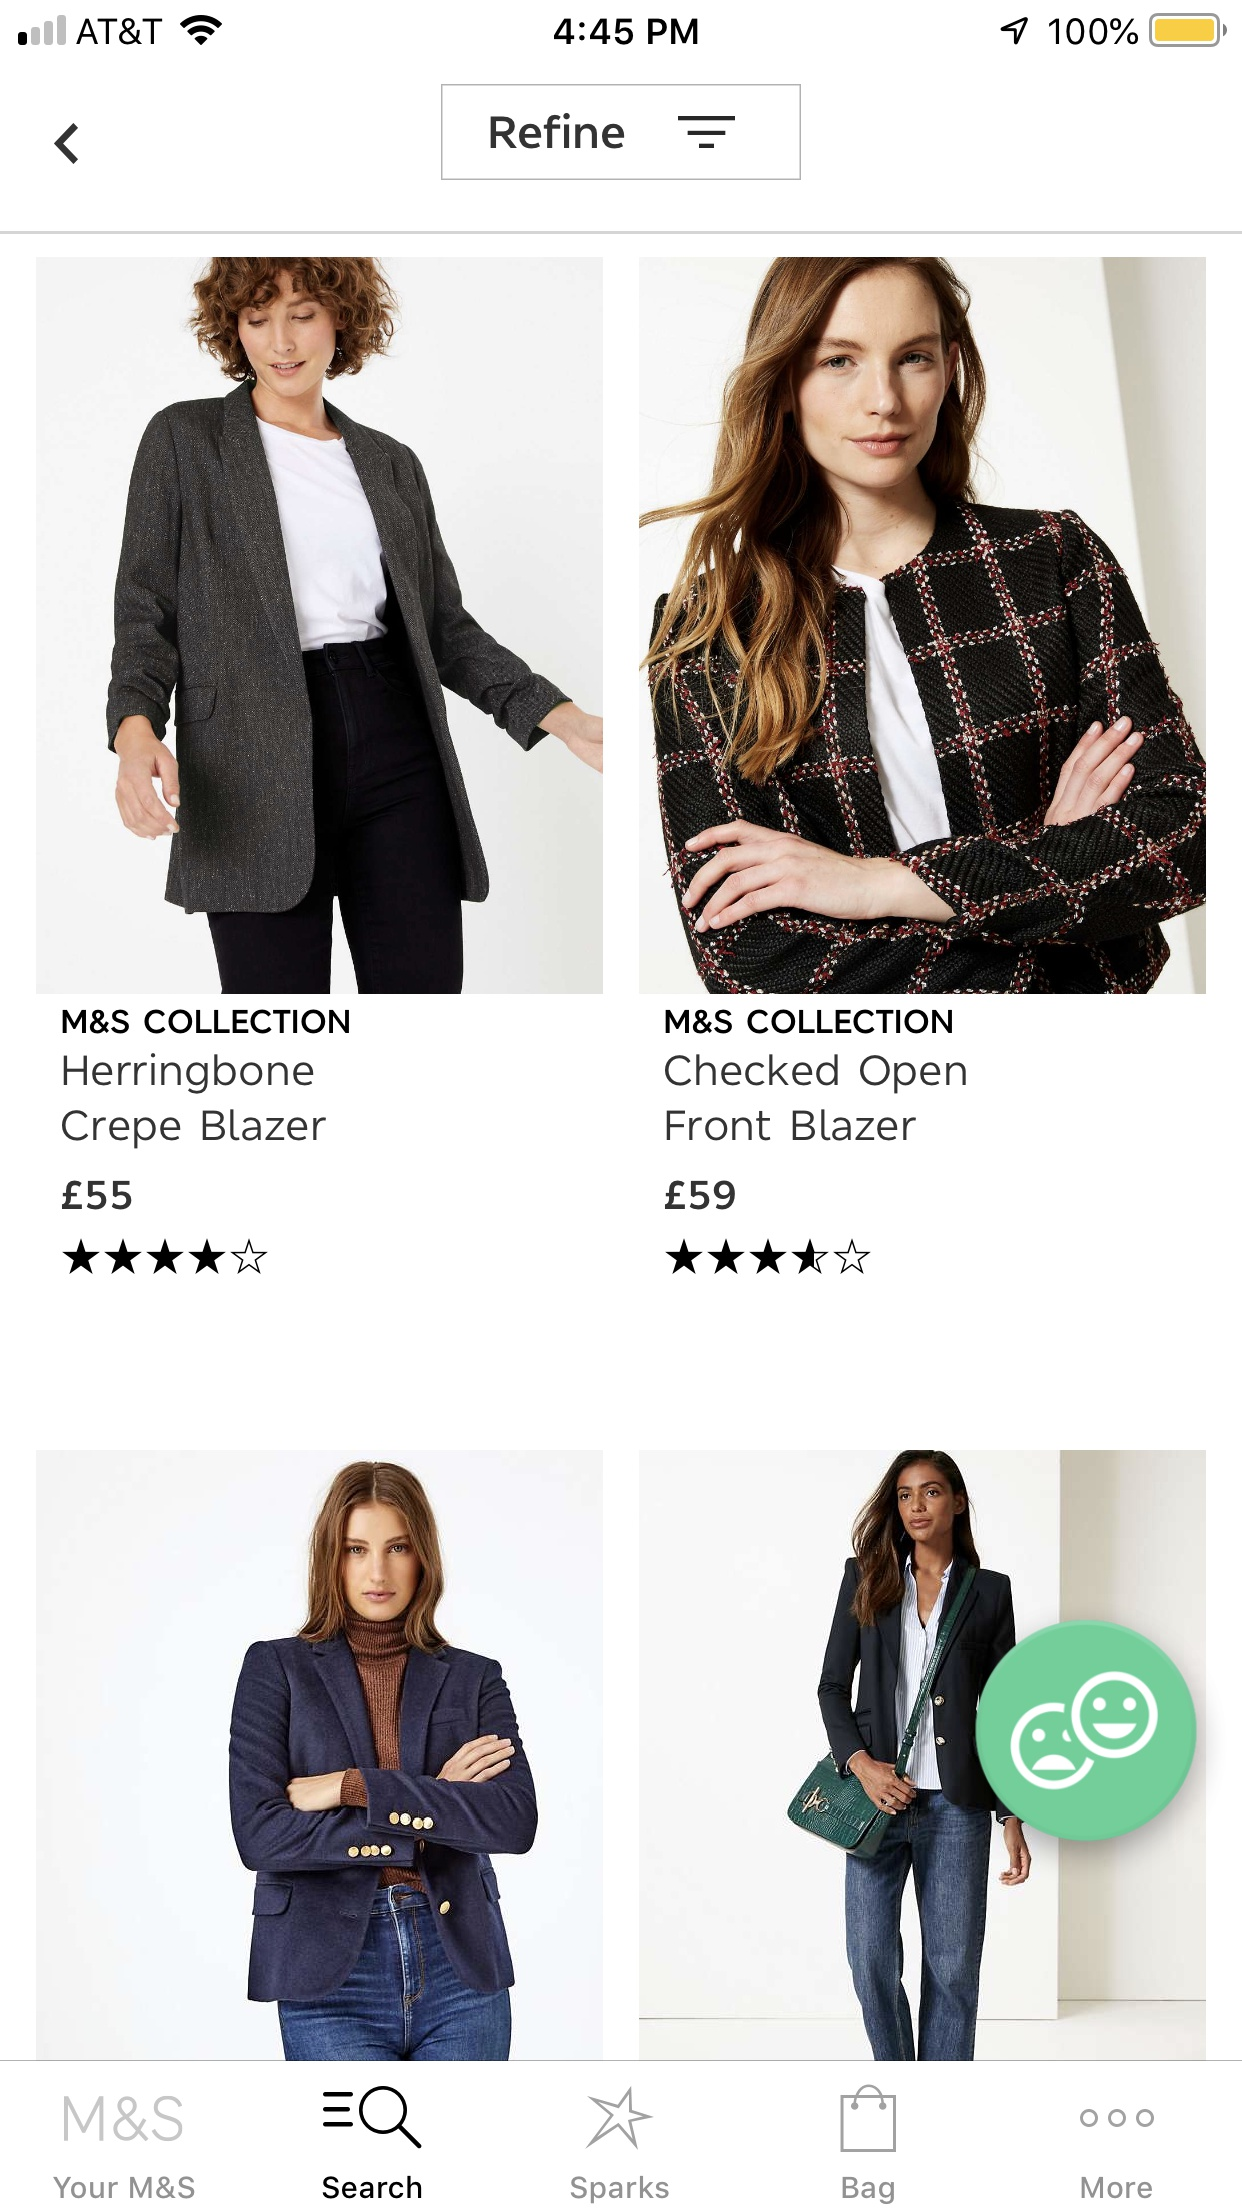Icon: (666, 1237, 872, 1275), (61, 1237, 265, 1275), (321, 2085, 423, 2149), (584, 2085, 654, 2150), (840, 2084, 898, 2153), (676, 115, 735, 150), (1080, 2106, 1156, 2128), (55, 123, 80, 165)
Image: (36, 256, 604, 995), (638, 256, 1206, 995), (36, 1450, 604, 2059), (638, 1450, 1206, 2059), (974, 1620, 1197, 1843)
Text: (664, 1054, 968, 1095), (61, 1106, 326, 1148), (61, 1051, 312, 1093), (61, 1002, 350, 1034), (666, 1109, 917, 1142), (666, 1008, 952, 1034), (64, 2094, 183, 2141), (490, 112, 625, 150), (53, 2175, 196, 2199), (570, 2175, 670, 2203), (321, 2175, 423, 2199), (58, 1178, 130, 1212), (664, 1180, 735, 1212), (1081, 2175, 1153, 2199), (842, 2176, 895, 2205)
TextButton: (441, 83, 802, 180)
UpperTaskBar: (2, 2, 1242, 49)
